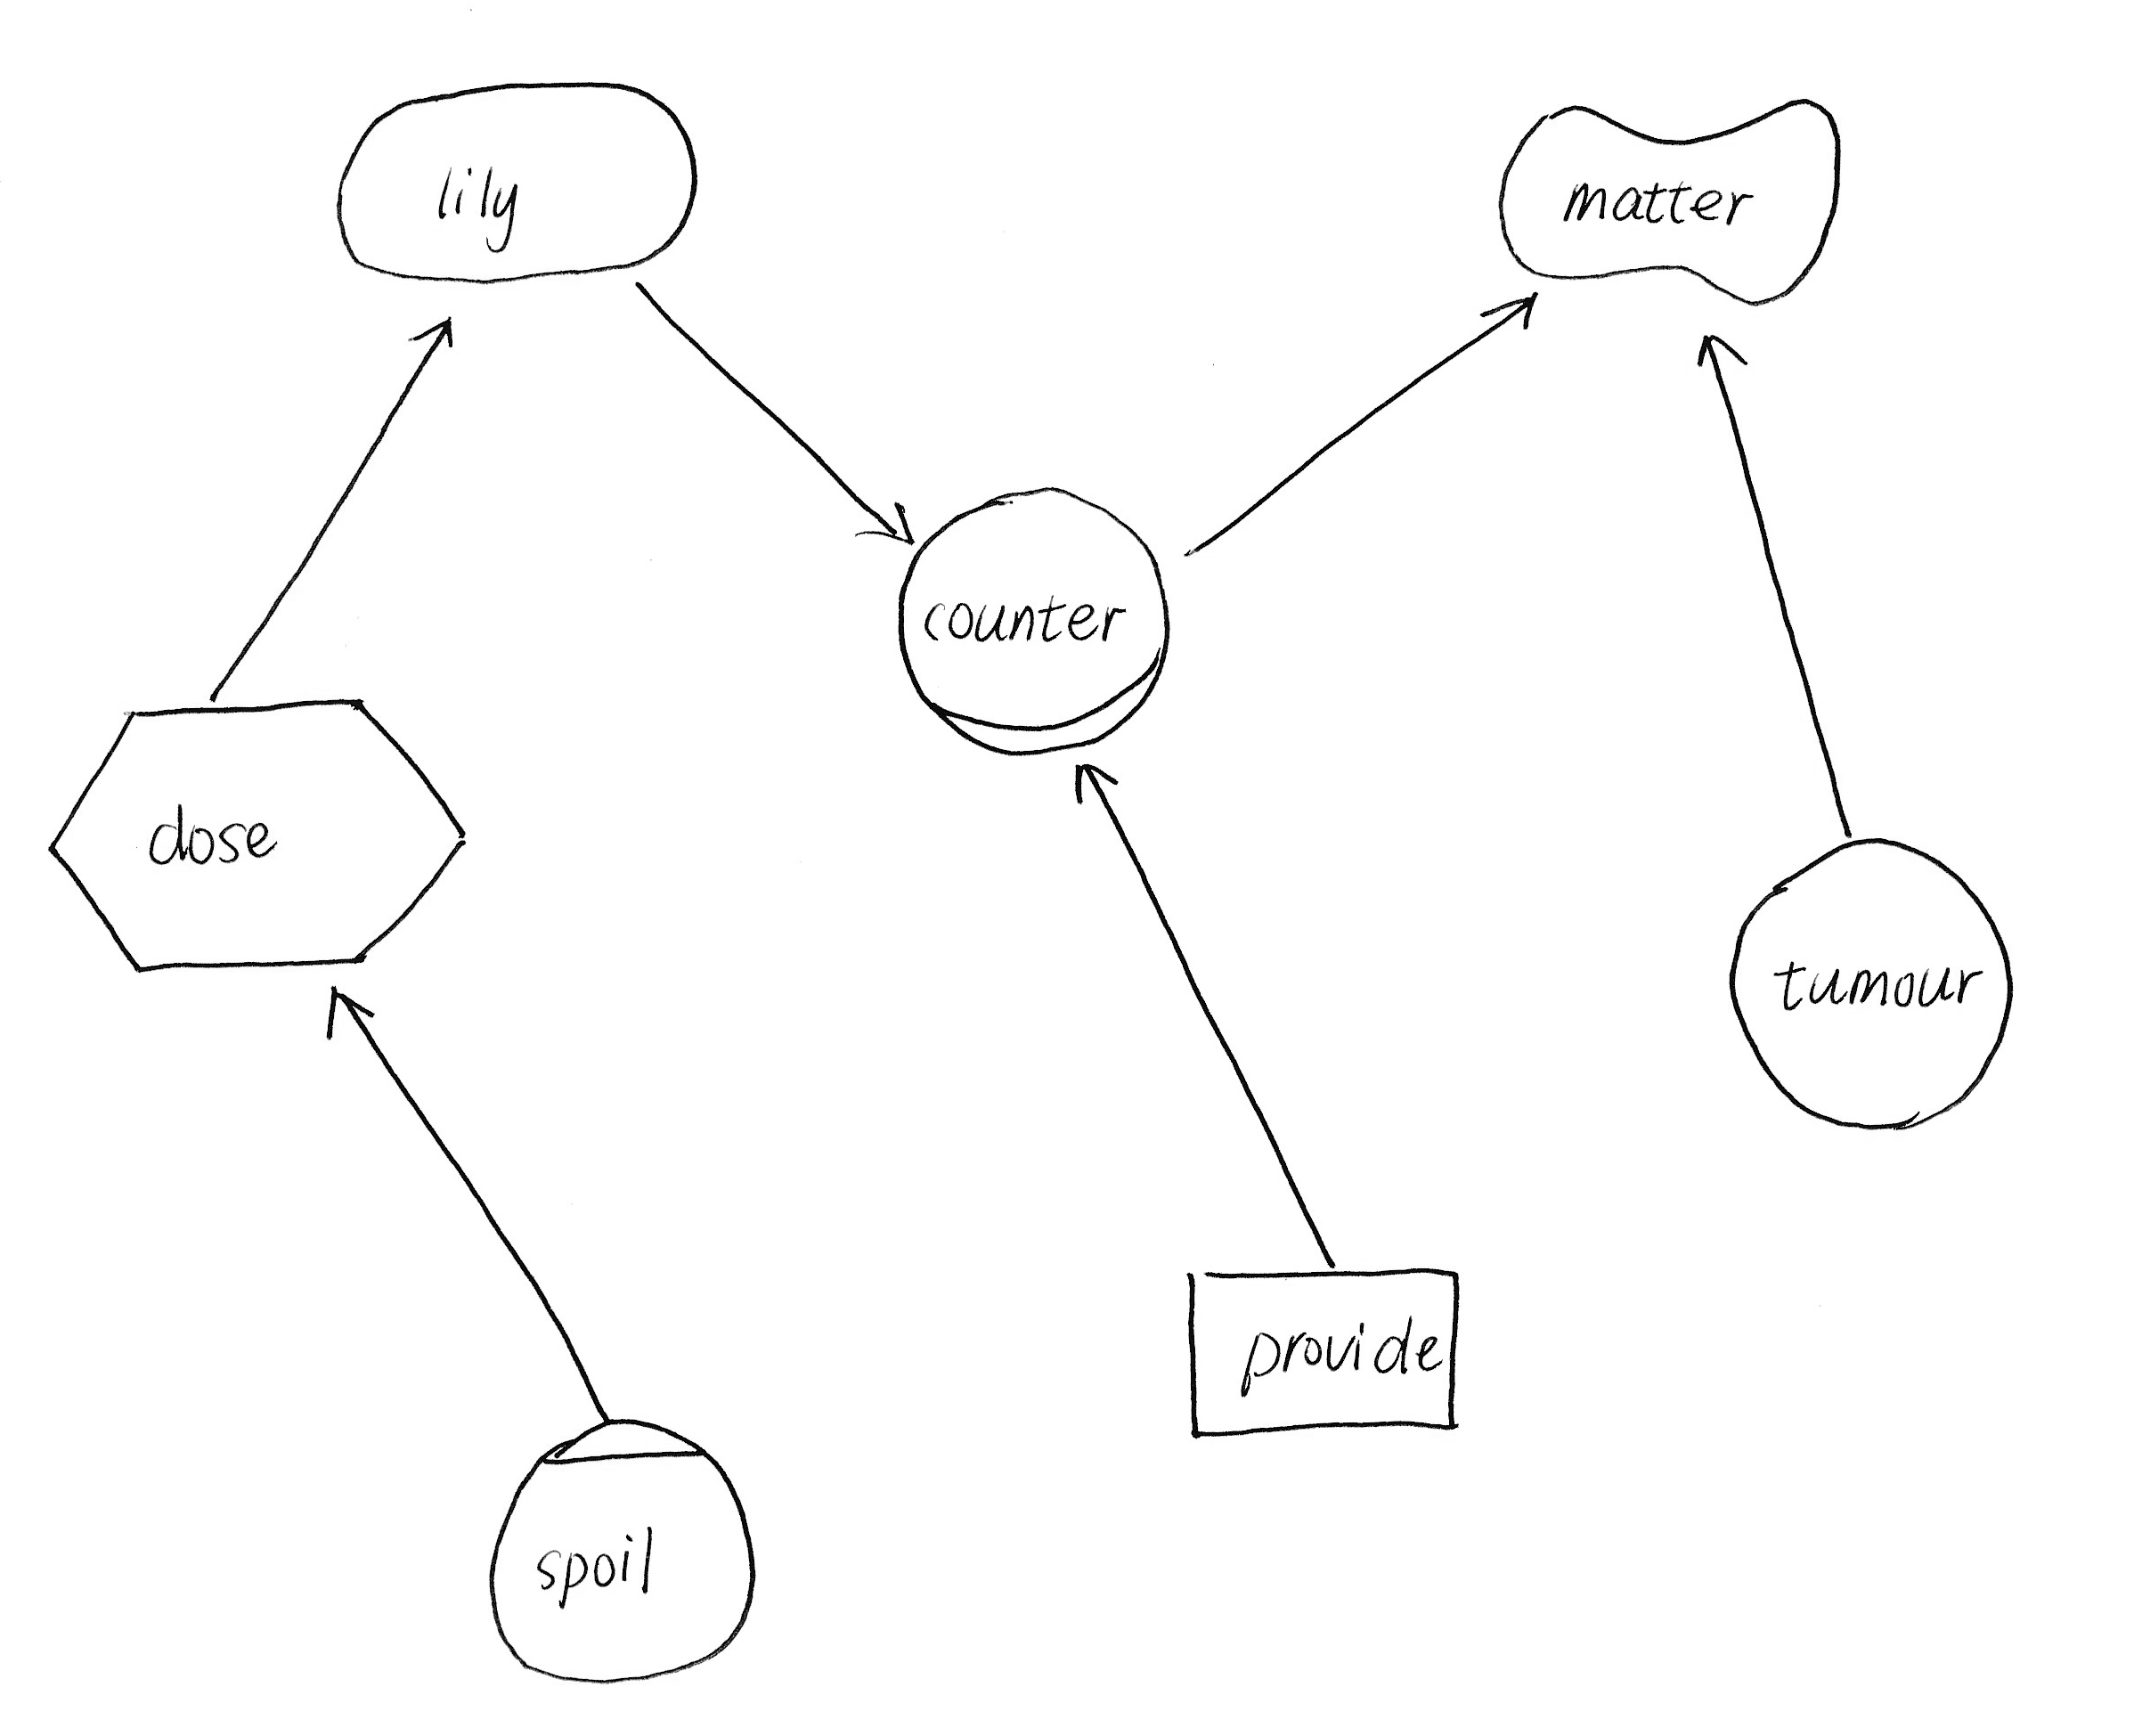actor: (1714, 820, 2028, 1146)
agent: (471, 1392, 770, 1693)
arrow: (848, 487, 932, 562), (1050, 746, 1135, 818), (312, 969, 384, 1049), (1684, 317, 1762, 388), (397, 301, 475, 365), (1475, 285, 1551, 345)
goal: (324, 62, 717, 303)
quality: (1482, 83, 1861, 312)
resource: (1165, 1251, 1473, 1454)
role: (880, 471, 1185, 769)
task: (35, 670, 483, 988)
